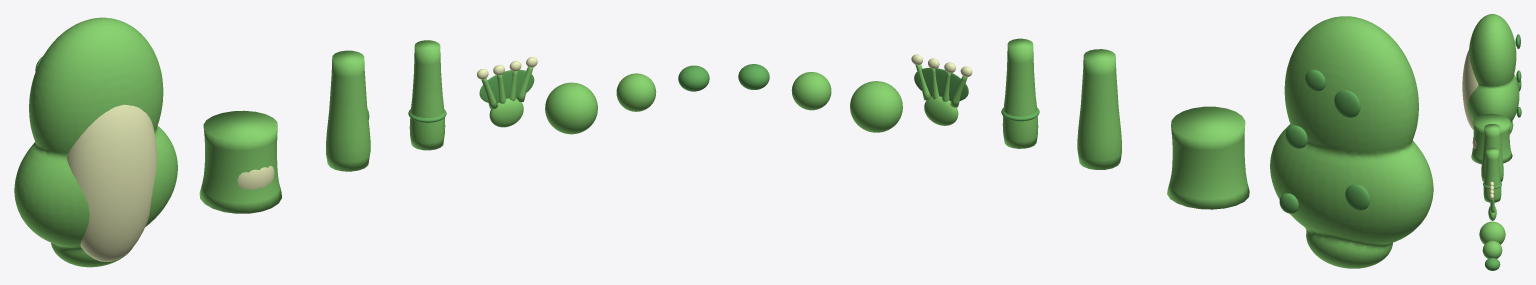
Rendered from frog-body.glb.
The picture shows the model from 3 angles, left to right: view 1: azimuth 30°, elevation 25°; view 2: azimuth 150°, elevation 25°; view 3: azimuth 270°, elevation 25°; orthographic projection. The views are drawn at different scales.
Parts seen in each view (by area): view 1: Torso, Neck, UpperArm, Forearm, Hand, Shoulder, Elbow, Wrist; view 2: Torso, Neck, UpperArm, Forearm, Hand, Shoulder, Elbow, Wrist; view 3: Torso, Neck, Forearm, UpperArm, Shoulder, Elbow, Hand, Wrist.
Boxes of the visible parts, box(x1,y1,x2,y2) form: Torso: box(14, 17, 177, 267); Neck: box(199, 110, 281, 213); UpperArm: box(326, 50, 370, 171); Forearm: box(408, 40, 446, 150); Hand: box(477, 57, 537, 127); Shoulder: box(545, 82, 597, 134); Elbow: box(616, 73, 656, 111); Wrist: box(678, 65, 709, 91); Torso: box(1270, 16, 1433, 268); Neck: box(1167, 106, 1249, 209); UpperArm: box(1077, 49, 1121, 169); Forearm: box(1001, 38, 1039, 148); Hand: box(911, 54, 972, 125); Shoulder: box(850, 81, 902, 132); Elbow: box(791, 72, 831, 110); Wrist: box(738, 64, 769, 89); Torso: box(1462, 14, 1521, 134); Neck: box(1471, 113, 1512, 164); Forearm: box(1483, 147, 1501, 202); UpperArm: box(1481, 124, 1503, 181); Shoulder: box(1479, 221, 1505, 244); Elbow: box(1482, 240, 1502, 258); Hand: box(1488, 181, 1496, 220); Wrist: box(1485, 258, 1500, 270).
Bounding box in the file's own units: 191 × 64.41 × 28.5.
